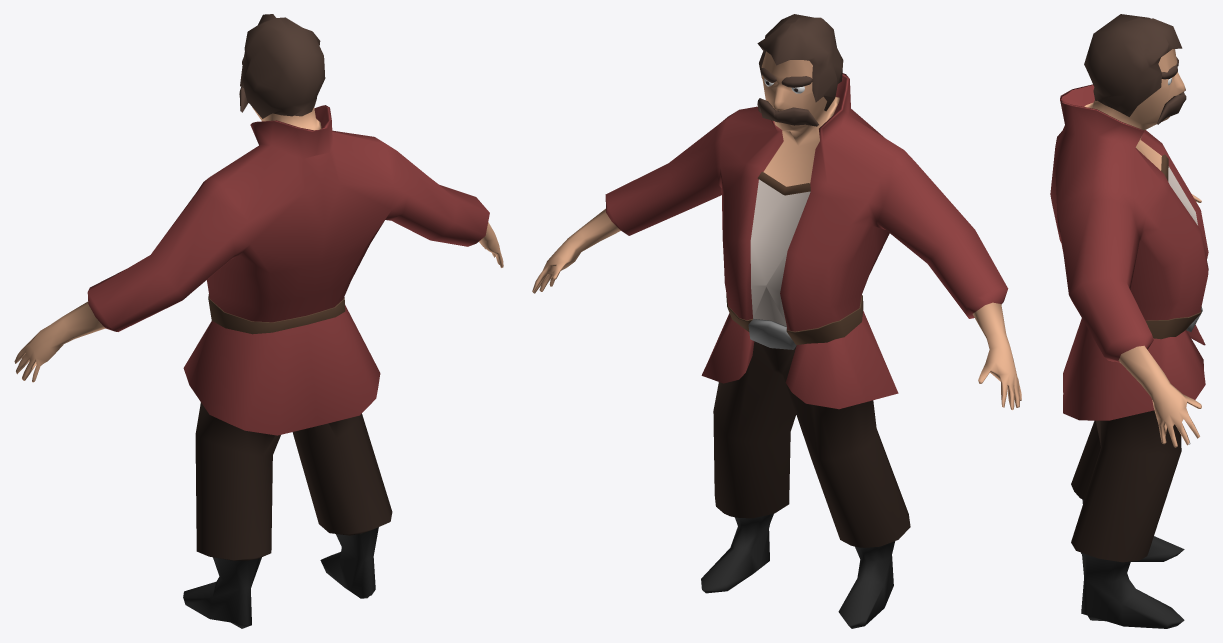
Rendered from care_02.fbx.
3 views of the same model, side by side, from view 1: azimuth 30°, elevation 25°; view 2: azimuth 150°, elevation 25°; view 3: azimuth 270°, elevation 25° (orthographic).
Visible parts, largest first — view 1: BobCare; view 2: BobCare; view 3: BobCare.
Boxes of the visible parts, box(x1,y1,x2,y2) form: BobCare: box(14, 14, 503, 628); BobCare: box(532, 14, 1021, 628); BobCare: box(1050, 14, 1208, 628).
Bounding box in the file's own units: 172 × 198 × 49.61.
